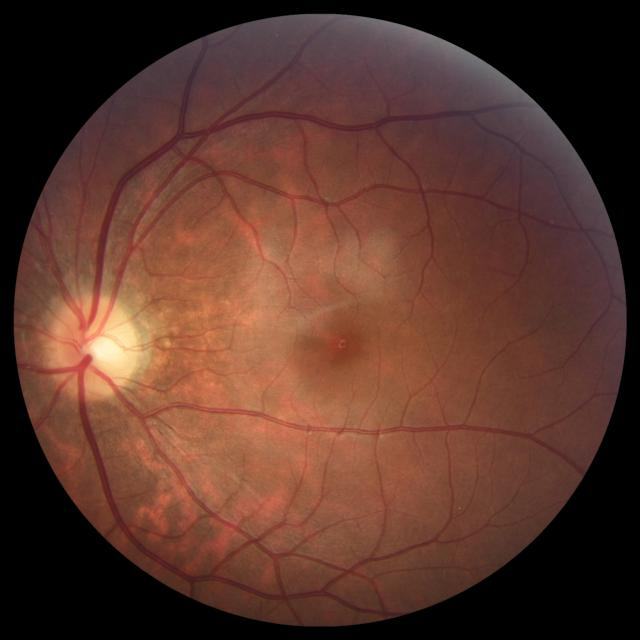OC: (77, 322, 120, 366)
OD: (47, 294, 139, 398)
